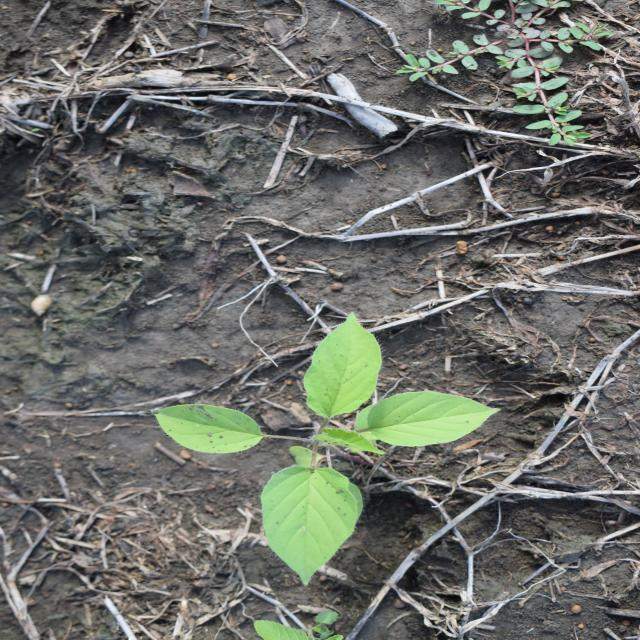MorningGlory: (152, 309, 505, 588)
SpottedSpurge: (393, 1, 615, 150)
